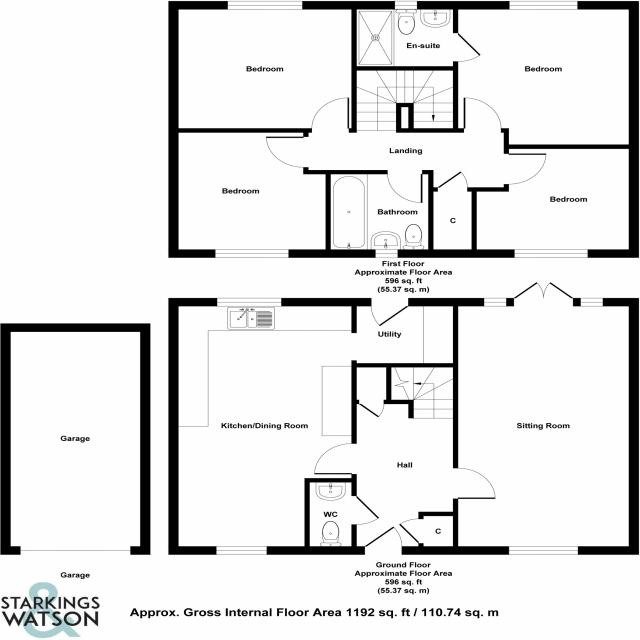DOOR: (511, 278, 578, 307), (257, 135, 310, 170), (460, 93, 506, 133), (503, 151, 551, 188), (453, 465, 498, 503), (312, 441, 357, 477), (365, 298, 419, 328), (308, 96, 351, 133), (384, 170, 426, 206), (452, 25, 484, 66), (361, 525, 404, 555), (351, 491, 382, 527), (433, 169, 470, 192), (397, 516, 424, 546), (355, 399, 387, 419)
ROOM: (453, 274, 639, 554), (169, 298, 358, 555), (352, 363, 501, 555), (453, 1, 640, 149), (168, 0, 357, 134), (168, 128, 331, 258), (471, 144, 640, 258)
WINDOW: (212, 247, 293, 261), (512, 247, 590, 260), (507, 544, 580, 556), (227, 0, 304, 11), (508, 0, 579, 11), (215, 297, 283, 308), (214, 545, 270, 556), (372, 247, 400, 259), (482, 297, 508, 308), (393, 0, 419, 10), (579, 297, 604, 307)
